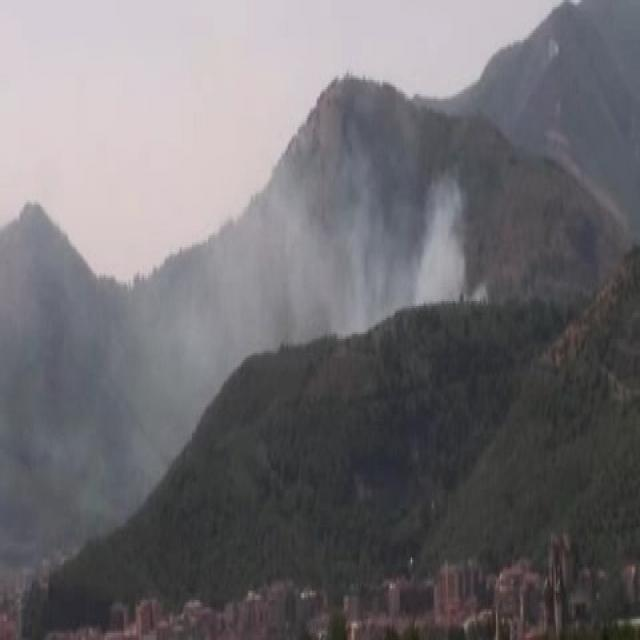smoke: (262, 154, 472, 312), (11, 284, 198, 441)
